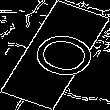O_SE: (12, 25, 98, 85)
